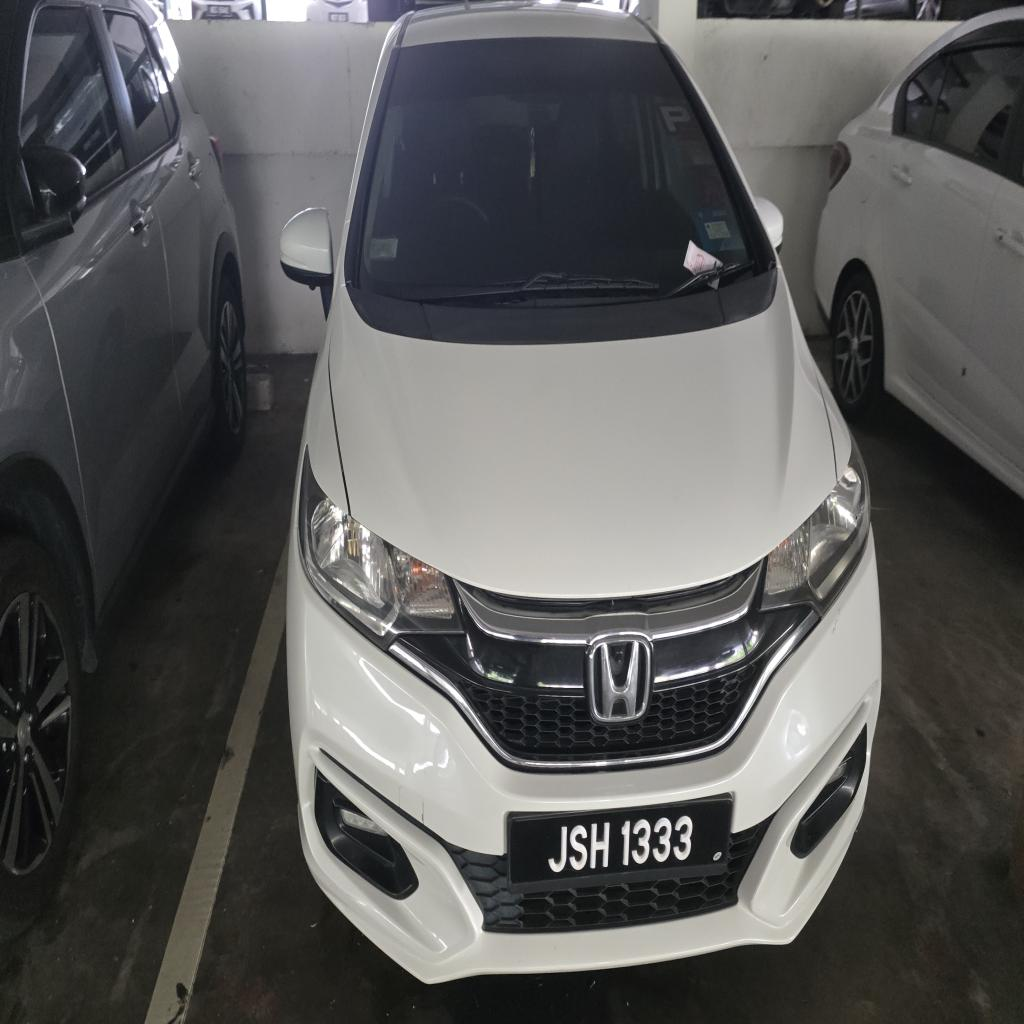car: (282, 3, 880, 981)
car plate: (508, 797, 732, 892)
